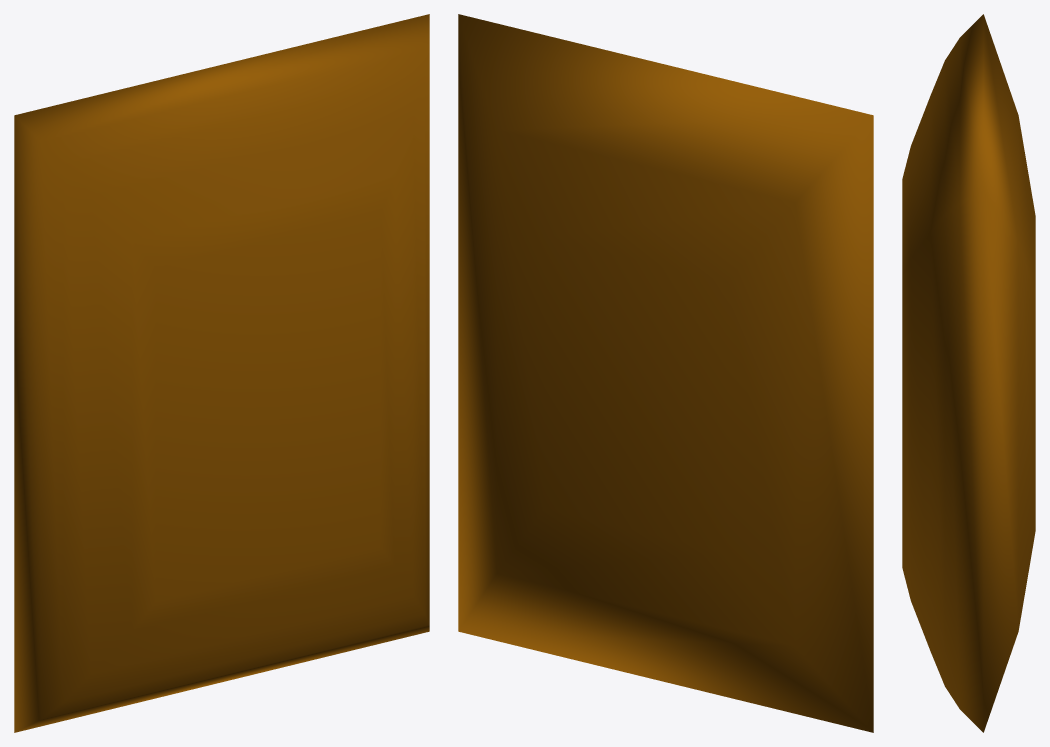
The model's file is wheat_sack.fbx.
3 views of the same model, side by side, from view 1: azimuth 30°, elevation 25°; view 2: azimuth 150°, elevation 25°; view 3: azimuth 270°, elevation 25° (orthographic). The views are drawn at different scales.
Visible parts, largest first — view 1: Sack; view 2: Sack; view 3: Sack.
Part boxes in pixels (x1=…): Sack: x1=14, y1=14, x2=429, y2=732; Sack: x1=458, y1=14, x2=873, y2=732; Sack: x1=902, y1=14, x2=1035, y2=732.
Size of the model in its own units: 141 by 200 by 44.63.
